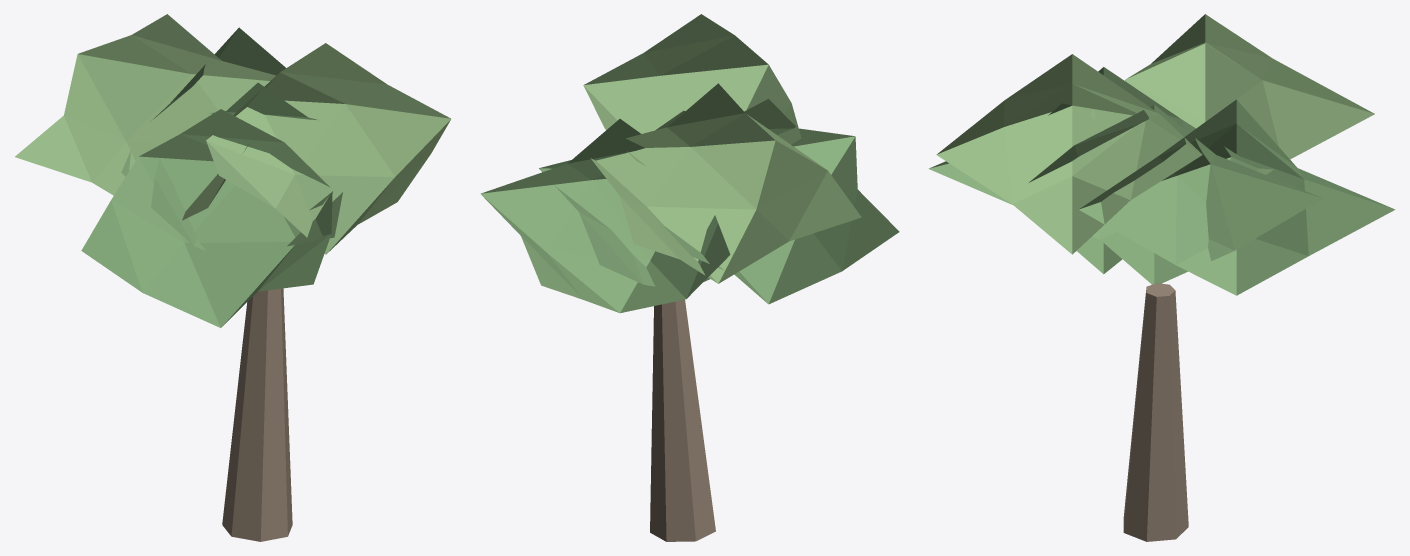
Rendered from broadleaf_v22.glb.
The picture shows the model from 3 angles, left to right: view 1: azimuth 30°, elevation 25°; view 2: azimuth 150°, elevation 25°; view 3: azimuth 270°, elevation 25°; orthographic projection. The views are drawn at different scales.
Parts seen in each view (by area): view 1: lod0; view 2: lod0; view 3: lod0.
Part boxes in pixels (box(x1,y1,x2,y2)): lod0: box(15, 14, 451, 541); lod0: box(480, 14, 899, 541); lod0: box(928, 14, 1395, 541).
Size of what is drawn, in the model's own units: 4.47 by 5.62 by 4.9.
